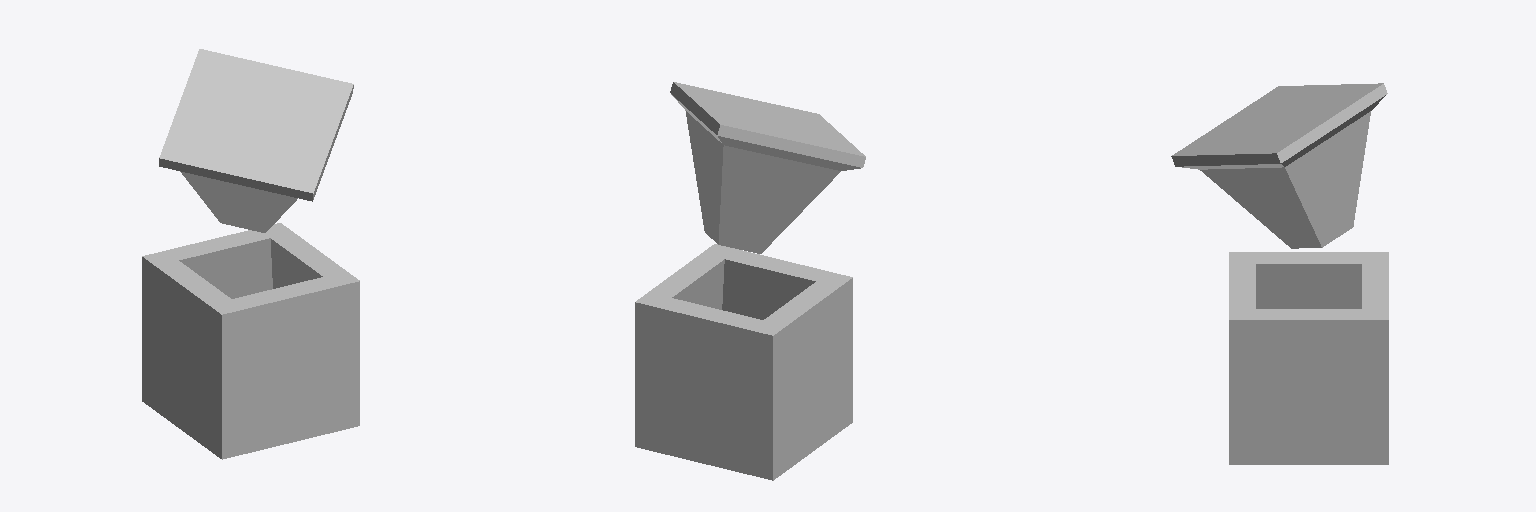
The model's file is AnimatedBox_000030.obj.
The picture shows the model from 3 angles: view 1: azimuth 30°, elevation 25°; view 2: azimuth 150°, elevation 25°; view 3: azimuth 270°, elevation 25°; orthographic projection.
Visible parts, largest first — view 1: Cube, Cube.001; view 2: Cube, Cube.001; view 3: Cube, Cube.001.
Part boxes in pixels (x1,y1,x2,y2): Cube: (142,223,359,459); Cube.001: (159,49,353,232); Cube: (635,244,852,480); Cube.001: (670,82,865,253); Cube: (1229,252,1388,464); Cube.001: (1171,83,1387,248).
Bounding box in the file's own units: 2.82 × 4.71 × 2.72.